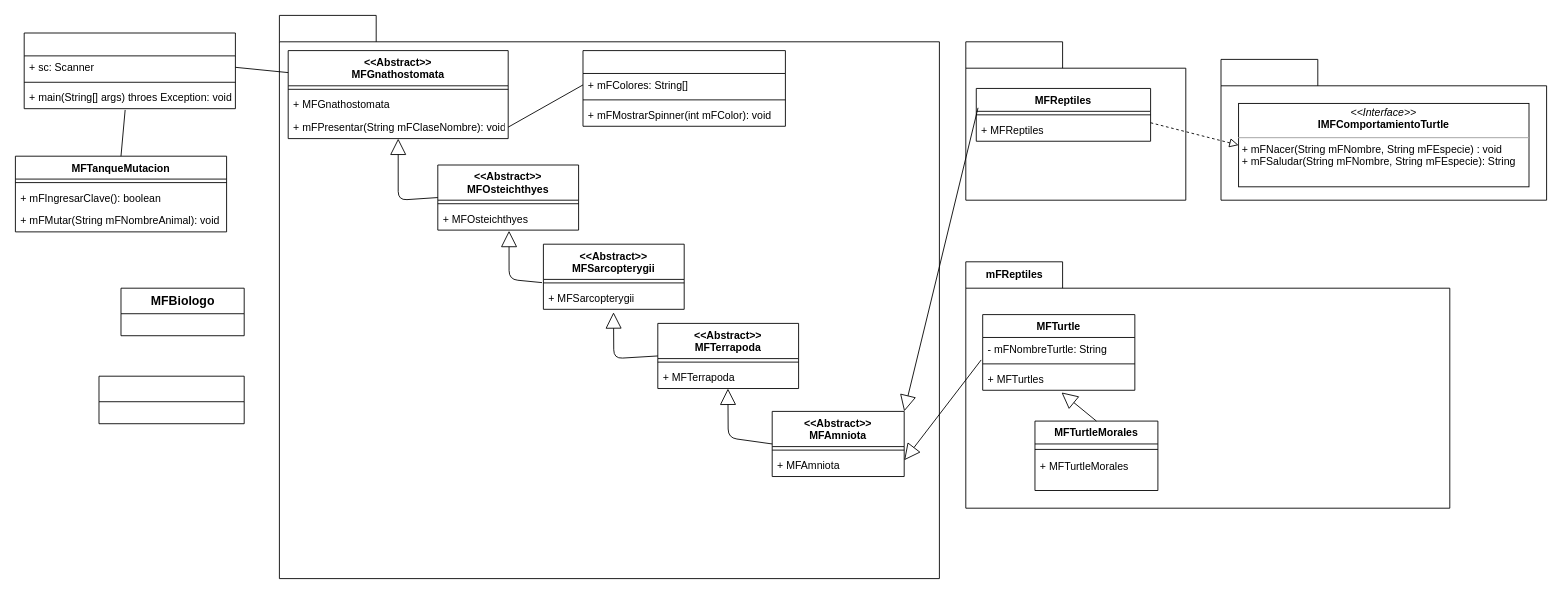
Some shapes in this 1562 by 594 pixel diagram are drawn without their labels. Each missing label, with the box of its shape:
App: (23, 32, 235, 109)
mFFanerozoico: (965, 41, 1186, 200)
mFInterfaces: (1220, 59, 1547, 200)
mFProterozoico: (279, 15, 939, 579)
MFSistemaInformatico: (98, 375, 244, 424)
MFUtil: (582, 50, 785, 126)
